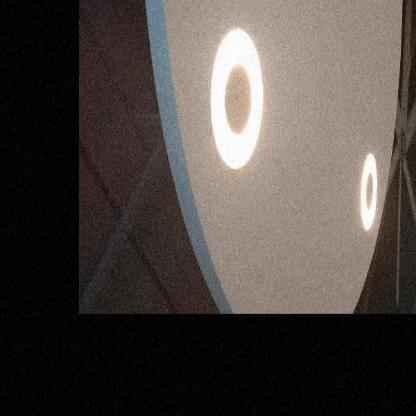light_on: (199, 3, 270, 198), (352, 138, 386, 244)
